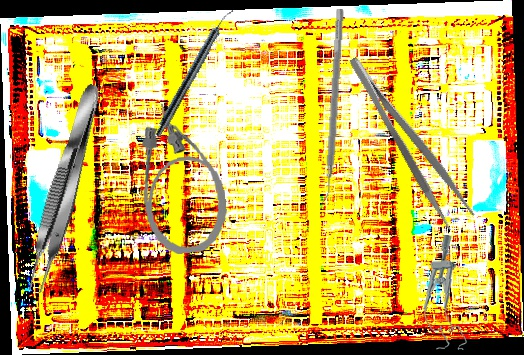Cannula: (134, 98, 231, 257)
Dressing Forceps: (344, 45, 477, 233)
Handpiece: (152, 5, 236, 140)
Spatula Surgical: (317, 8, 345, 206)
Speculum: (418, 234, 468, 353)
Tissue Forceps: (19, 80, 110, 297)
